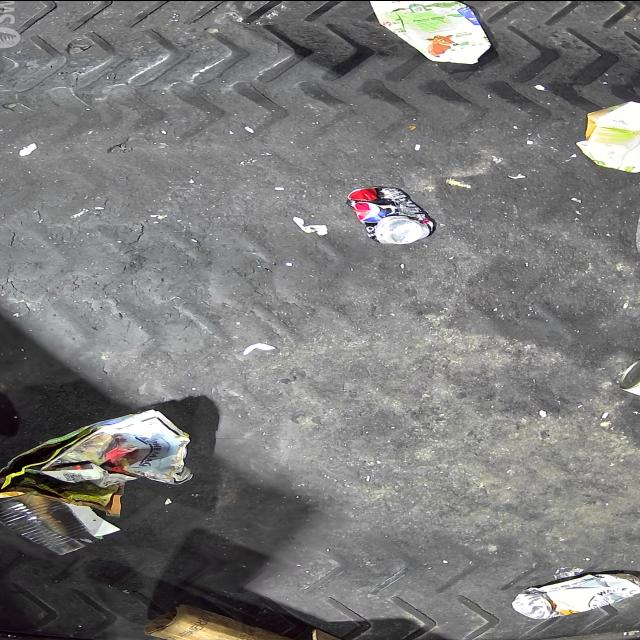can: (0, 493, 99, 555), (510, 572, 640, 619), (346, 185, 436, 244), (620, 358, 640, 407)
non_white_jug: (369, 0, 492, 63), (576, 101, 640, 173)
